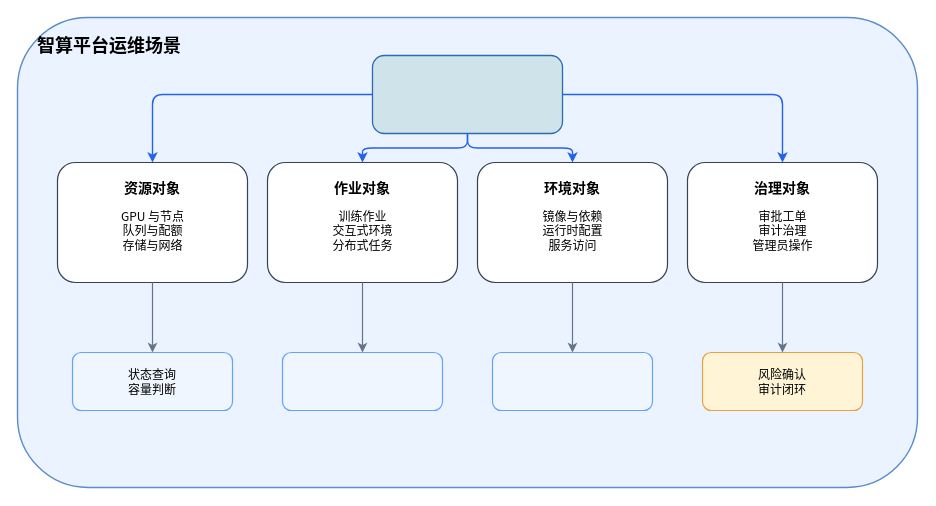
Some shapes in this 936 by 506 pixel diagram are drawn without their labels. The shapes that lost their labels are listed below. From the top down, each one's centre as x and y in pixels, then its label:
At point (467, 94): "自然语言请求 页面上下文 平台触发事件".
At point (362, 381): "失败诊断 性能分析".
At point (572, 381): "环境推荐 构建排查".
